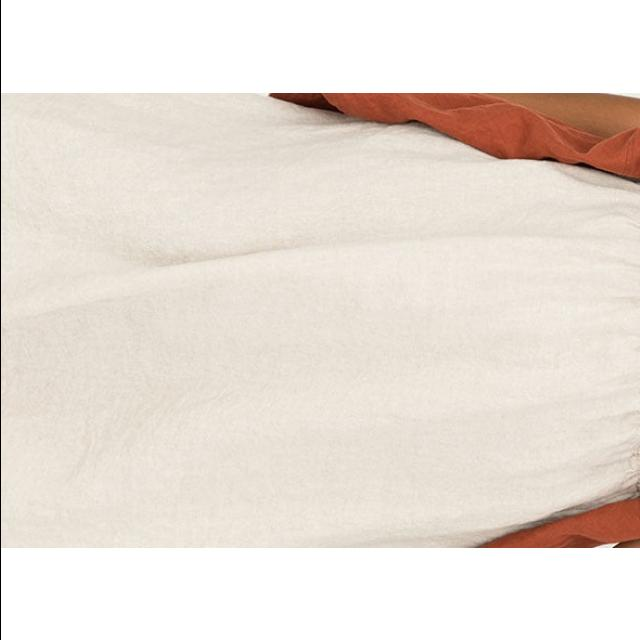linen: (0, 190, 640, 478)
